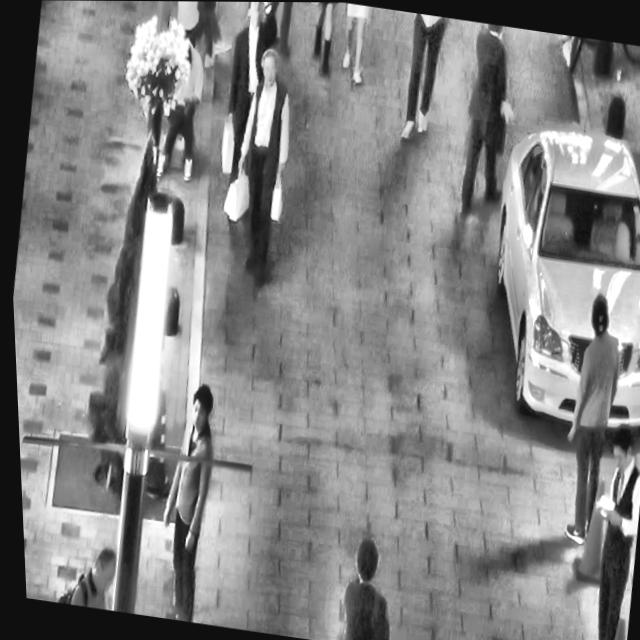light_vehicle: (459, 99, 640, 441)
